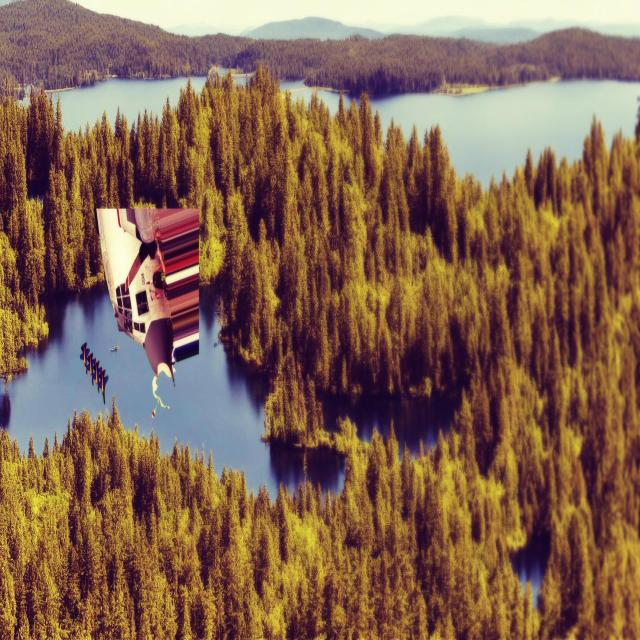airplane: (95, 205, 200, 418), (80, 341, 108, 404)
